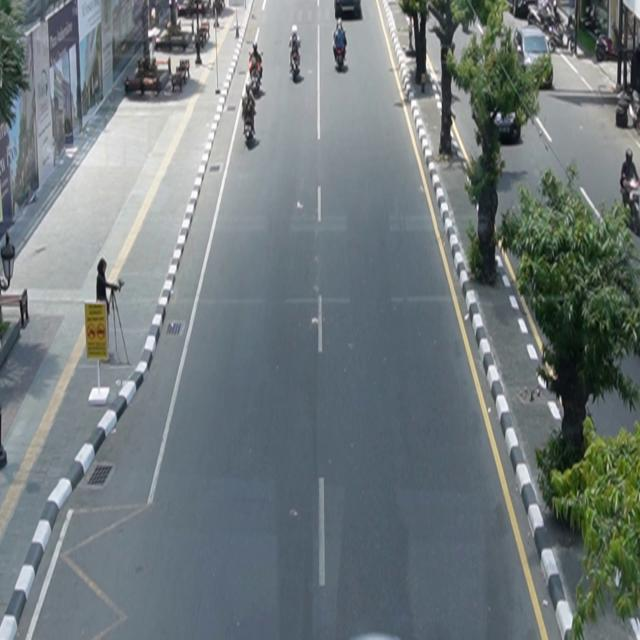car: (335, 1, 361, 19)
